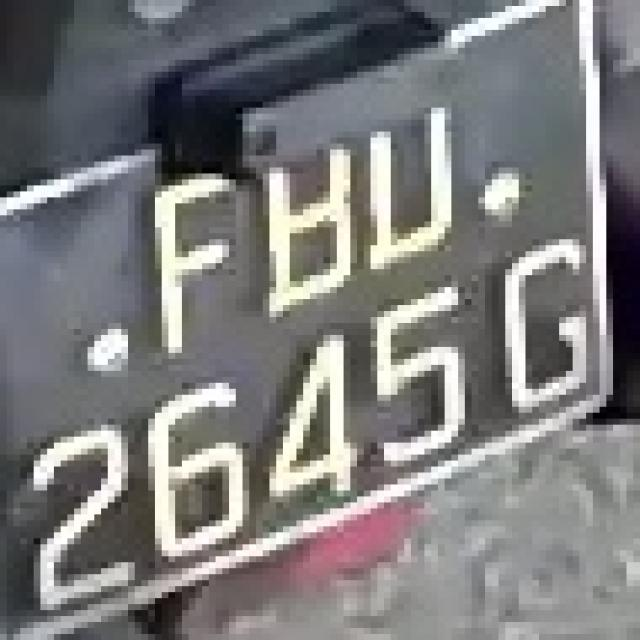2: (7, 413, 148, 628)
4: (229, 323, 377, 514)
5: (351, 281, 478, 479)
6: (128, 371, 263, 568)
B: (242, 126, 370, 305)
D: (350, 78, 465, 263)
F: (122, 143, 250, 359)
G: (465, 227, 606, 419)
